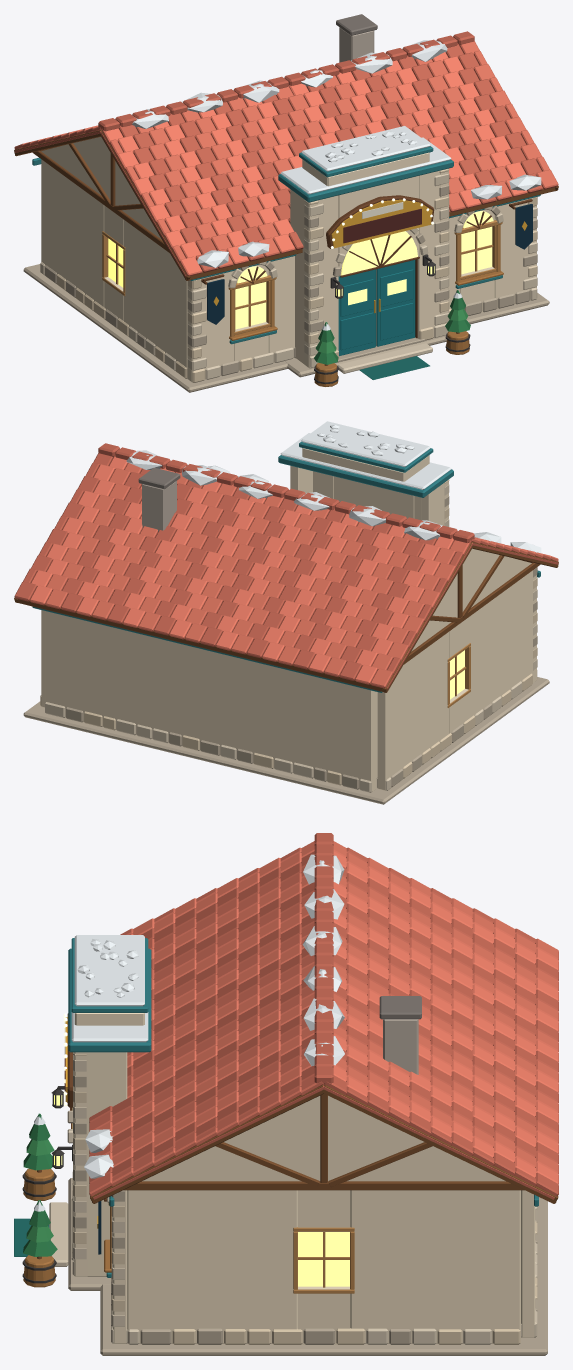
File: casino_exterior.glb
3 renders of one model, top to bottom at view 1: azimuth 30°, elevation 25°; view 2: azimuth 150°, elevation 25°; view 3: azimuth 270°, elevation 25°, orthographic. The views are drawn at different scales.
Parts seen in each view (by area): view 1: casino_exterior, casino_exterior_roof, part_door_r, part_door_l; view 2: casino_exterior_roof, casino_exterior; view 3: casino_exterior_roof, casino_exterior.
Boxes of the visible parts, x1,y1,x2,y2 form: casino_exterior: [23, 126, 549, 392]; casino_exterior_roof: [14, 14, 558, 280]; part_door_r: [374, 260, 415, 346]; part_door_l: [338, 269, 380, 355]; casino_exterior_roof: [14, 443, 558, 692]; casino_exterior: [23, 421, 549, 804]; casino_exterior_roof: [84, 833, 558, 1203]; casino_exterior: [14, 935, 547, 1355].
Size of the model in its own units: 9.06 by 5.15 by 8.52.
